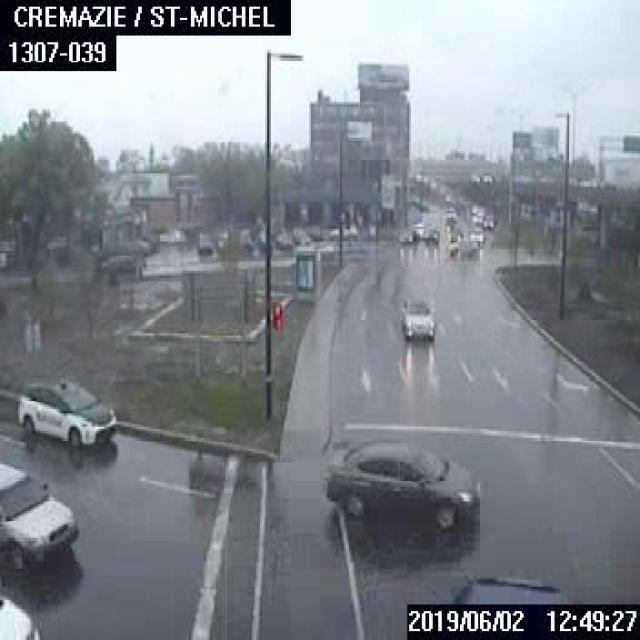vehicle: (318, 435, 478, 529), (0, 455, 80, 569), (17, 376, 116, 446), (453, 574, 582, 602), (0, 589, 42, 638), (400, 295, 434, 338), (98, 253, 134, 269), (156, 227, 184, 244), (196, 230, 212, 252), (466, 225, 484, 244), (398, 227, 416, 243), (423, 225, 438, 242), (482, 215, 493, 228)
